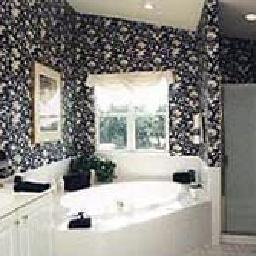Ducha: (215, 78, 254, 236)
